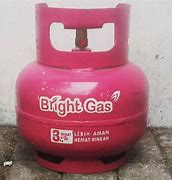bright_gas: (16, 3, 151, 175)
